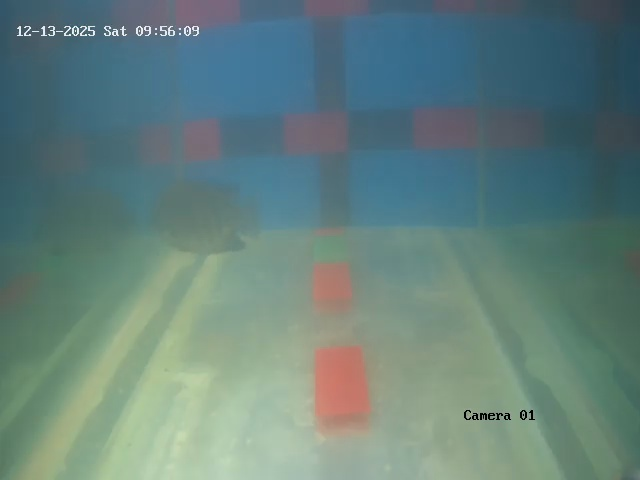fish: (137, 166, 270, 261)
